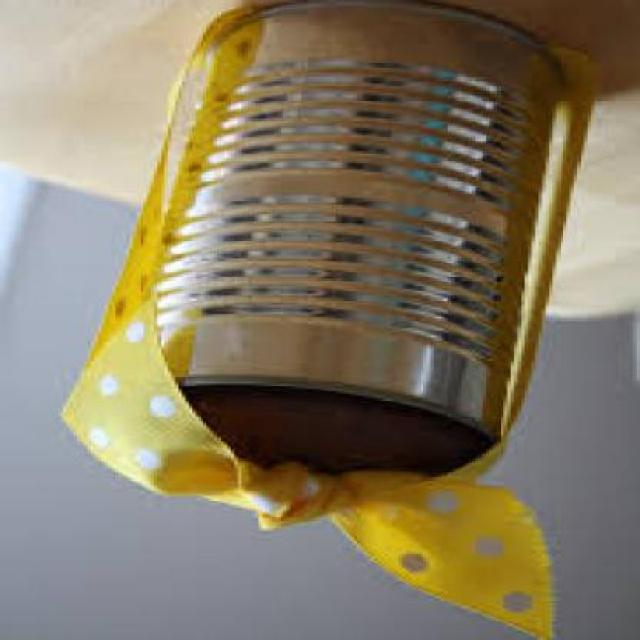METAL: (95, 5, 562, 423)
